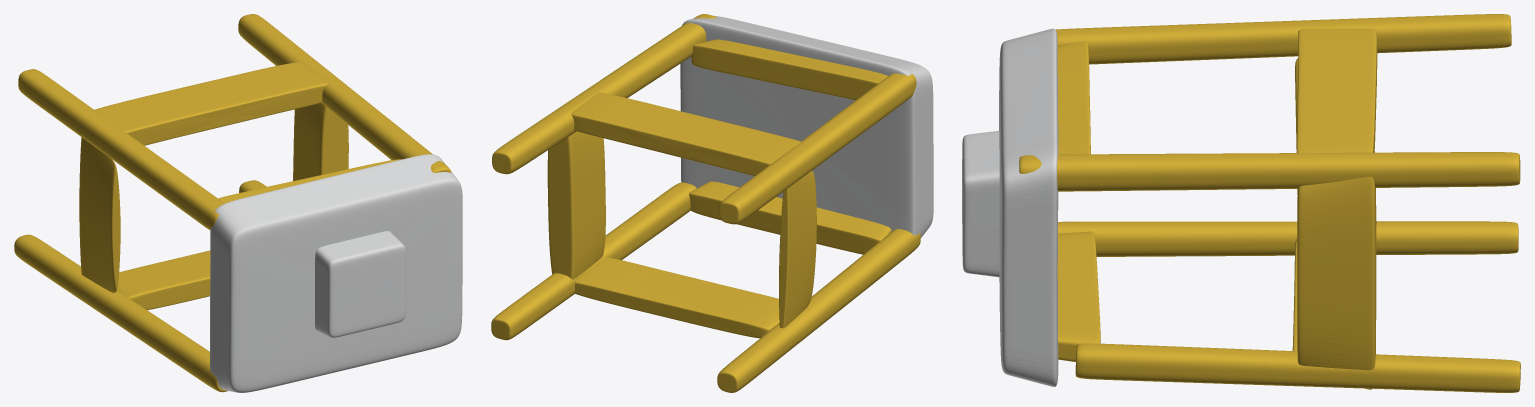
Rendered from 24_stool_with_a_pillow_sq.glb.
The picture shows the model from 3 angles, left to right: view 1: azimuth 30°, elevation 25°; view 2: azimuth 150°, elevation 25°; view 3: azimuth 270°, elevation 25°; orthographic projection. The views are drawn at different scales.
Visible parts, largest first — view 1: superquadric_1, superquadric_4, superquadric_0, superquadric_3, superquadric_5, superquadric_6, superquadric_11, superquadric_7, superquadric_8, superquadric_10; view 2: superquadric_1, superquadric_4, superquadric_7, superquadric_8, superquadric_3, superquadric_5, superquadric_6, superquadric_10, superquadric_2, superquadric_11, superquadric_9; view 3: superquadric_1, superquadric_6, superquadric_8, superquadric_2, superquadric_3, superquadric_5, superquadric_4, superquadric_0, superquadric_9, superquadric_10.
Part boxes in pixels (<box>): superquadric_1: <box>210,154,462,392</box>; superquadric_4: <box>94,62,327,145</box>; superquadric_0: <box>315,231,405,337</box>; superquadric_3: <box>18,69,224,229</box>; superquadric_5: <box>14,234,227,392</box>; superquadric_6: <box>238,14,451,172</box>; superquadric_11: <box>79,137,120,292</box>; superquadric_7: <box>117,250,210,310</box>; superquadric_8: <box>293,103,348,180</box>; superquadric_10: <box>218,159,401,203</box>; superquadric_1: <box>680,16,933,237</box>; superquadric_4: <box>571,92,801,176</box>; superquadric_7: <box>574,257,779,338</box>; superquadric_8: <box>547,131,605,279</box>; superquadric_3: <box>719,73,916,224</box>; superquadric_5: <box>717,229,920,392</box>; superquadric_6: <box>492,14,716,174</box>; superquadric_10: <box>691,39,887,100</box>; superquadric_2: <box>491,182,696,340</box>; superquadric_11: <box>779,171,816,328</box>; superquadric_9: <box>689,181,891,254</box>; superquadric_1: <box>999,28,1058,386</box>; superquadric_6: <box>1019,152,1520,191</box>; superquadric_8: <box>1297,176,1376,389</box>; superquadric_2: <box>1075,343,1520,392</box>; superquadric_3: <box>1056,14,1511,64</box>; superquadric_5: <box>1058,221,1518,256</box>; superquadric_4: <box>1296,28,1377,153</box>; superquadric_0: <box>962,130,999,277</box>; superquadric_9: <box>1057,231,1100,361</box>; superquadric_10: <box>1057,41,1090,154</box>.
Size of the model in its own units: 0.6399 by 0.4702 by 1.
